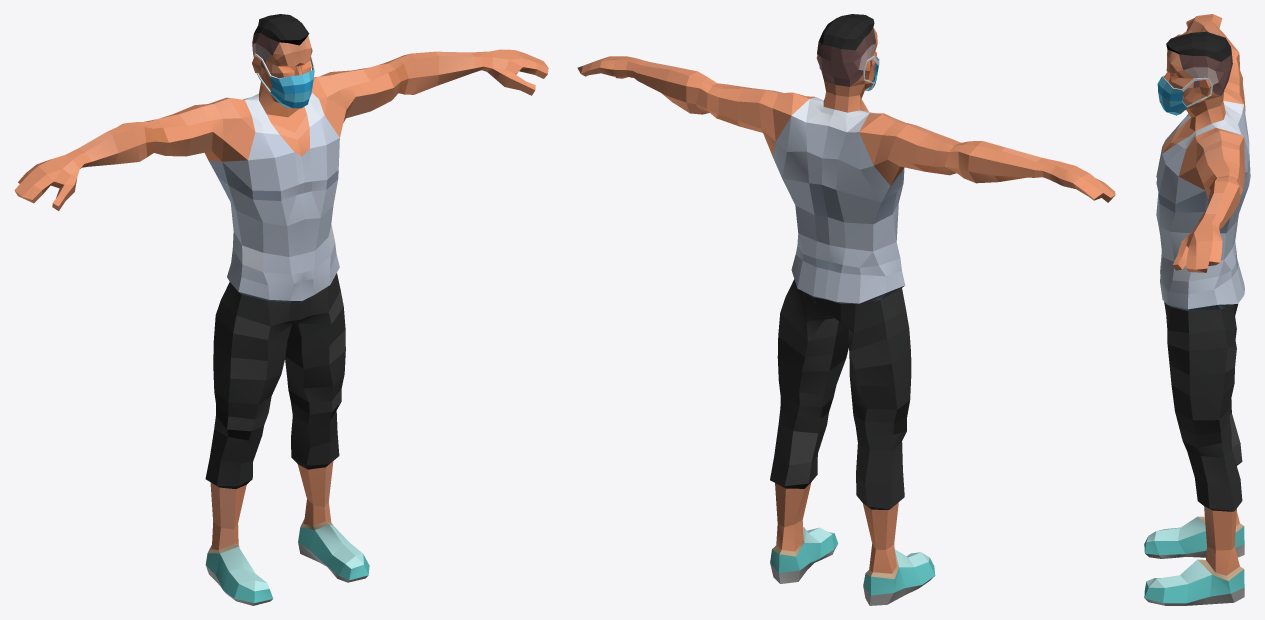
File: casual_Male_I-model.obj
3 renders of one model, left to right at view 1: azimuth 30°, elevation 25°; view 2: azimuth 150°, elevation 25°; view 3: azimuth 270°, elevation 25°, orthographic. The views are drawn at different scales.
Visible parts, largest first — view 1: casual_Male_I, acc_mask_blue; view 2: casual_Male_I; view 3: casual_Male_I, acc_mask_blue.
Boxes of the visible parts, x1,y1,x2,y2 form: casual_Male_I: (14, 14, 548, 605); acc_mask_blue: (254, 53, 314, 108); casual_Male_I: (577, 14, 1115, 605); casual_Male_I: (1144, 14, 1250, 605); acc_mask_blue: (1157, 74, 1212, 115).
Bounding box in the file's own units: 168 × 168 × 29.98.
